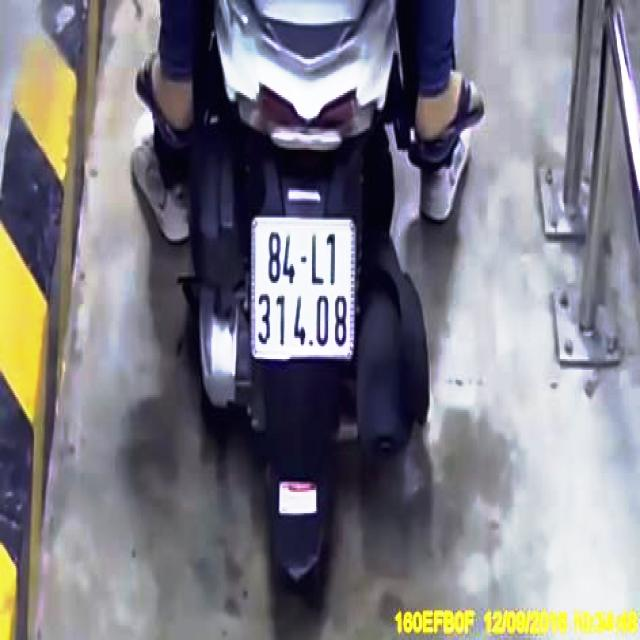license_plate: (255, 217, 352, 359)
